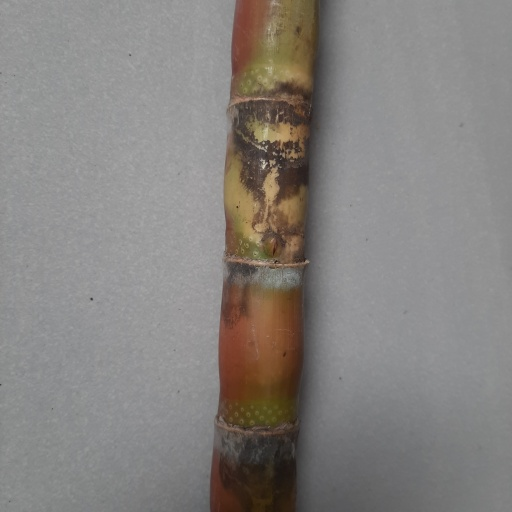Bud: (261, 231, 286, 262)
